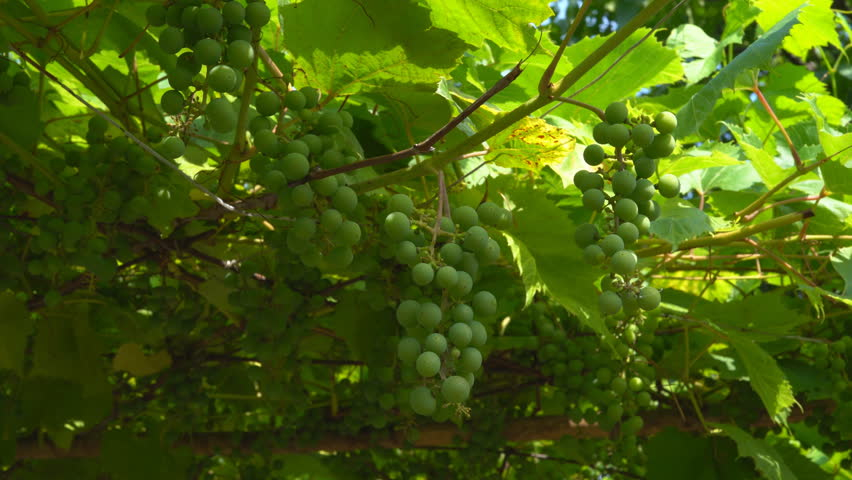grapes: (568, 99, 701, 366), (385, 193, 512, 404), (255, 79, 374, 275), (144, 2, 261, 162), (51, 117, 207, 224)
